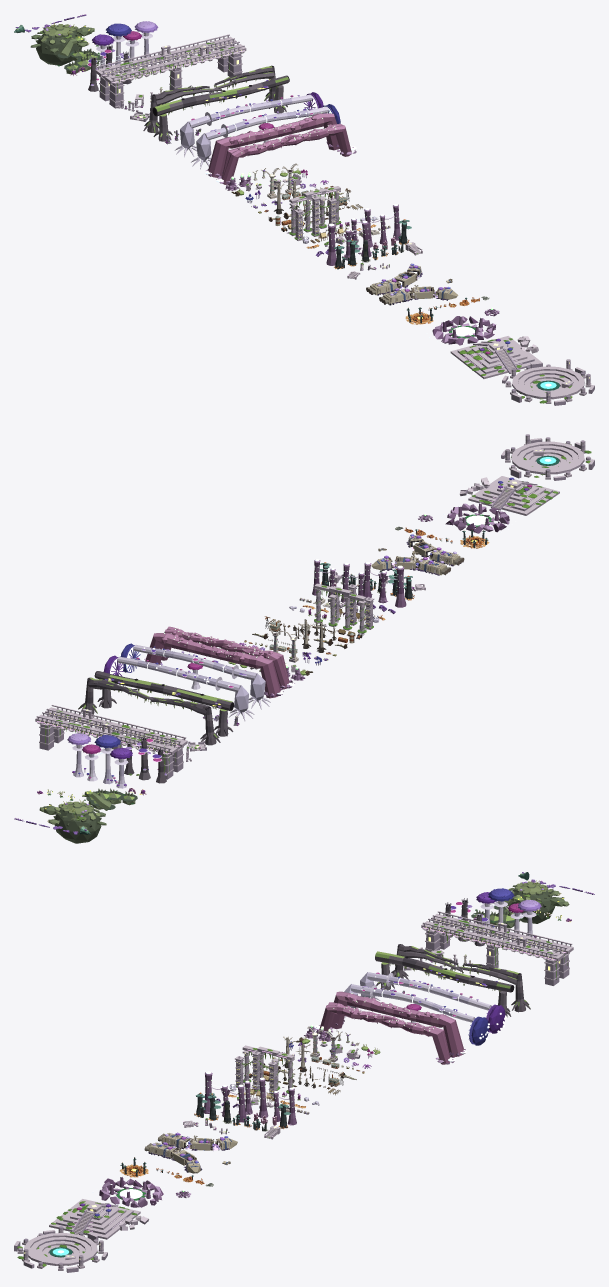
Rendered from set_mirefall.glb.
3 renders of one model, top to bottom at view 1: azimuth 30°, elevation 25°; view 2: azimuth 150°, elevation 25°; view 3: azimuth 330°, elevation 25°, orthographic.
Parts seen in each view (by area): view 1: mirefall_ziggurat_ruin_1.001, mirefall_causeway_1.001, mirefall_ziggurat_ruin_0.001, mirefall_fungal_arch_0.001, mirefall_causeway_0.001, mirefall_fungal_arch_1.001, mirefall_drowned_roots_1.001, mirefall_fallen_stalk_0.001, mirefall_fallen_stalk_1.001, mirefall_drowned_roots_0.001, mirefall_bog_beast_0.001, mirefall_cap_gate_0.001 (+7 smaller); view 2: mirefall_ziggurat_ruin_1.001, mirefall_ziggurat_ruin_0.001, mirefall_fungal_arch_0.001, mirefall_causeway_0.001, mirefall_causeway_1.001, mirefall_fallen_stalk_1.001, mirefall_drowned_roots_1.001, mirefall_cap_gate_0.001, mirefall_bog_beast_0.001, mirefall_fallen_stalk_0.001, mirefall_drowned_roots_0.001, mirefall_fungal_arch_1.001 (+7 smaller); view 3: mirefall_ziggurat_ruin_1.001, mirefall_causeway_1.001, mirefall_ziggurat_ruin_0.001, mirefall_fungal_arch_0.001, mirefall_causeway_0.001, mirefall_fungal_arch_1.001, mirefall_drowned_roots_1.001, mirefall_drowned_roots_0.001, mirefall_fallen_stalk_1.001, mirefall_fallen_stalk_0.001, mirefall_cap_gate_0.001, mirefall_vent_crater_0.001 (+5 smaller).
Part boxes in pixels (bbox=[...]): mirefall_ziggurat_ruin_1.001: bbox=[502, 359, 594, 405]; mirefall_causeway_1.001: bbox=[105, 41, 246, 108]; mirefall_ziggurat_ruin_0.001: bbox=[450, 336, 540, 378]; mirefall_fungal_arch_0.001: bbox=[205, 112, 339, 177]; mirefall_causeway_0.001: bbox=[95, 34, 236, 101]; mirefall_fungal_arch_1.001: bbox=[216, 123, 356, 185]; mirefall_drowned_roots_1.001: bbox=[152, 75, 289, 141]; mirefall_fallen_stalk_0.001: bbox=[174, 92, 323, 157]; mirefall_fallen_stalk_1.001: bbox=[191, 104, 341, 169]; mirefall_drowned_roots_0.001: bbox=[143, 65, 275, 133]; mirefall_bog_beast_0.001: bbox=[30, 23, 94, 65]; mirefall_cap_gate_0.001: bbox=[92, 21, 158, 69]; mirefall_ziggurat_ruin_1.001: bbox=[501, 434, 594, 480]; mirefall_ziggurat_ruin_0.001: bbox=[459, 476, 559, 515]; mirefall_fungal_arch_0.001: bbox=[142, 633, 283, 698]; mirefall_causeway_0.001: bbox=[35, 712, 177, 779]; mirefall_causeway_1.001: bbox=[45, 705, 187, 772]; mirefall_fallen_stalk_1.001: bbox=[119, 643, 270, 709]; mirefall_drowned_roots_1.001: bbox=[94, 671, 233, 736]; mirefall_cap_gate_0.001: bbox=[67, 733, 132, 788]; mirefall_bog_beast_0.001: bbox=[39, 799, 106, 843]; mirefall_fallen_stalk_0.001: bbox=[102, 655, 254, 721]; mirefall_drowned_roots_0.001: bbox=[78, 677, 220, 745]; mirefall_fungal_arch_1.001: bbox=[161, 626, 294, 689]; mirefall_ziggurat_ruin_1.001: bbox=[14, 1226, 107, 1272]; mirefall_causeway_1.001: bbox=[421, 918, 563, 985]; mirefall_ziggurat_ruin_0.001: bbox=[49, 1199, 148, 1239]; mirefall_fungal_arch_0.001: bbox=[331, 991, 466, 1057]; mirefall_causeway_0.001: bbox=[431, 911, 573, 978]; mirefall_fungal_arch_1.001: bbox=[313, 1002, 455, 1064]; mirefall_drowned_roots_1.001: bbox=[375, 951, 514, 1017]; mirefall_drowned_roots_0.001: bbox=[391, 944, 530, 1012]; mirefall_fallen_stalk_1.001: bbox=[344, 984, 489, 1045]; mirefall_fallen_stalk_0.001: bbox=[360, 972, 506, 1033]; mirefall_cap_gate_0.001: bbox=[476, 888, 541, 937]; mirefall_vent_crater_0.001: bbox=[93, 1176, 167, 1207].
Bounding box in the file's own units: 101 × 44.56 × 624.
